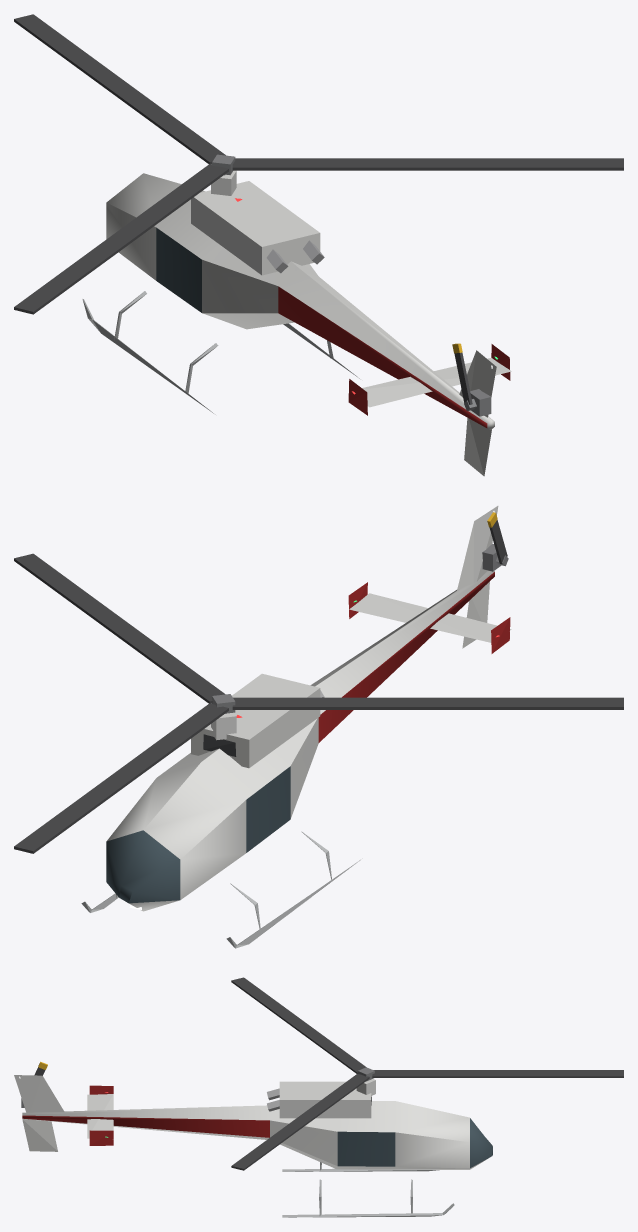
File: helicopter_lod2.glb
3 renders of one model, top to bottom at view 1: azimuth 30°, elevation 25°; view 2: azimuth 150°, elevation 25°; view 3: azimuth 270°, elevation 25°, orthographic. The views are drawn at different scales.
Visible parts, largest first — view 1: body, rotor_main, rotor_tail; view 2: body, rotor_main; view 3: body, rotor_main.
Part boxes in pixels (bbox=[...]): body: bbox=[82, 170, 511, 476]; rotor_main: bbox=[14, 14, 623, 314]; rotor_tail: bbox=[452, 343, 476, 411]; body: bbox=[81, 506, 511, 948]; rotor_main: bbox=[14, 553, 623, 853]; body: bbox=[14, 1075, 492, 1217]; rotor_main: bbox=[231, 977, 623, 1170].
Size of the model in its own units: 9.42 by 2.91 by 12.67.
2 materials, 1 textured.
